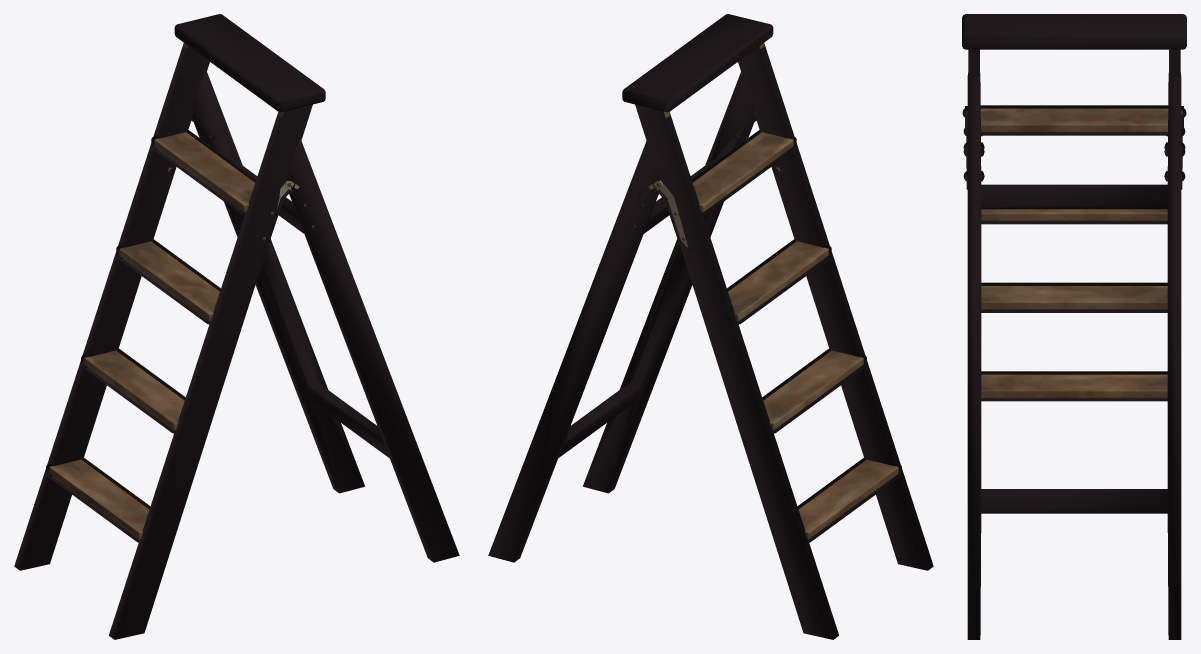
Rendered from SM_Int_Ladder.fbx.
The picture shows the model from 3 angles, left to right: view 1: azimuth 30°, elevation 25°; view 2: azimuth 150°, elevation 25°; view 3: azimuth 270°, elevation 25°; orthographic projection. The views are drawn at different scales.
Parts seen in each view (by area): view 1: SM_Int_Ladder; view 2: SM_Int_Ladder; view 3: SM_Int_Ladder.
Part boxes in pixels (left/top/right/bottom): SM_Int_Ladder: left=14, top=14, right=459, bottom=639; SM_Int_Ladder: left=488, top=14, right=933, bottom=639; SM_Int_Ladder: left=962, top=14, right=1186, bottom=639.
Size of what is drawn, in the model's own units: 0.97 by 1.35 by 0.5155.
